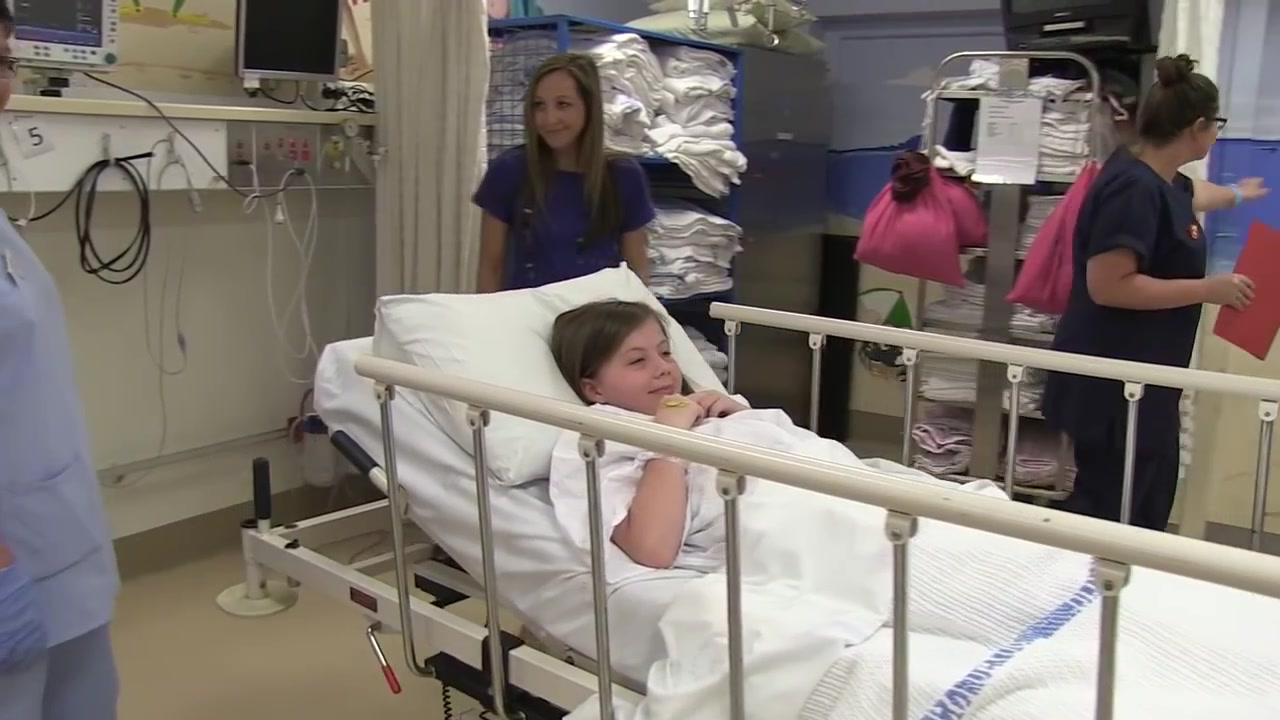bedrail: (349, 353, 1280, 719), (703, 294, 1280, 559)
bedside_monitor: (235, 1, 350, 84), (1, 1, 122, 76)
curtain: (373, 1, 495, 294)
hospital_bed: (217, 260, 1280, 720)
patient: (547, 300, 850, 582)
staff: (1041, 53, 1269, 540), (1, 1, 124, 720)
visitor: (472, 56, 655, 303)
